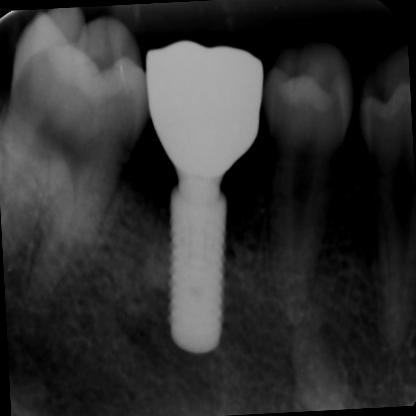ITI: (152, 180, 246, 361)
